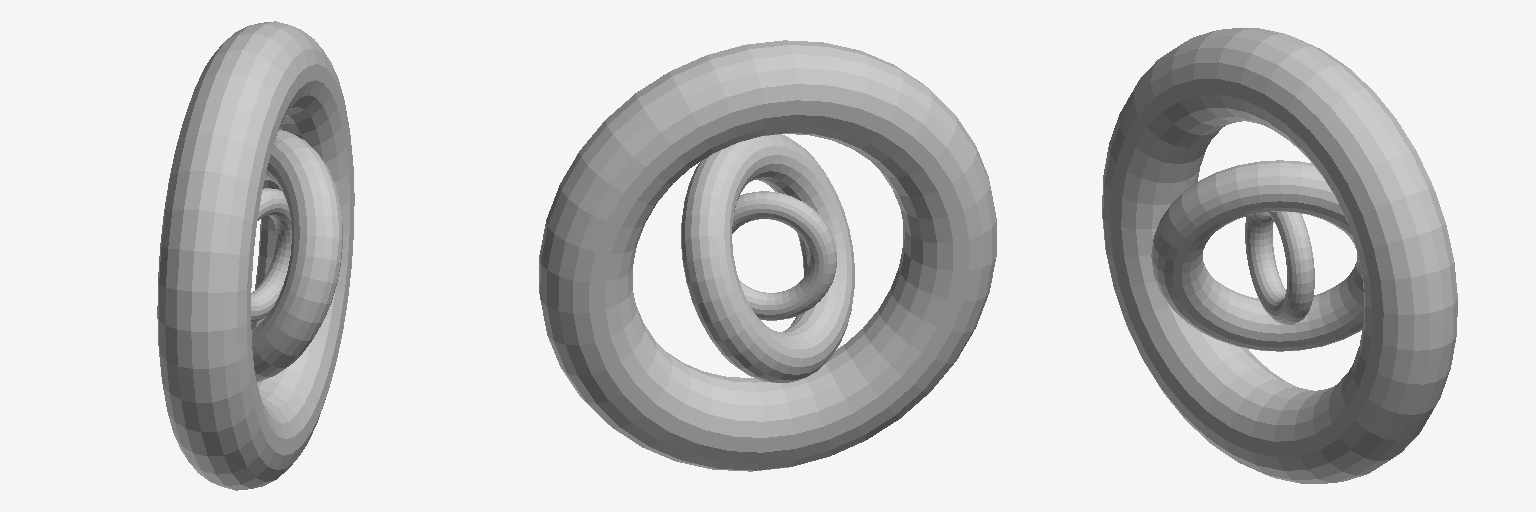
Rendered from yume.obj.
The picture shows the model from 3 angles: view 1: azimuth 30°, elevation 25°; view 2: azimuth 150°, elevation 25°; view 3: azimuth 270°, elevation 25°; orthographic projection.
Parts seen in each view (by area): view 1: Torus.1, Torus, Torus.2; view 2: Torus.1, Torus, Torus.2; view 3: Torus.1, Torus, Torus.2.
Boxes of the visible parts, box(x1,y1,x2,y2) form: Torus.1: box(157, 21, 354, 490); Torus: box(252, 130, 342, 381); Torus.2: box(251, 188, 291, 322); Torus.1: box(539, 40, 996, 471); Torus: box(681, 134, 854, 382); Torus.2: box(732, 191, 836, 320); Torus.1: box(1102, 28, 1457, 483); Torus: box(1151, 160, 1363, 351); Torus.2: box(1245, 211, 1314, 324).
Size of the model in its own units: 706 by 911 by 691.